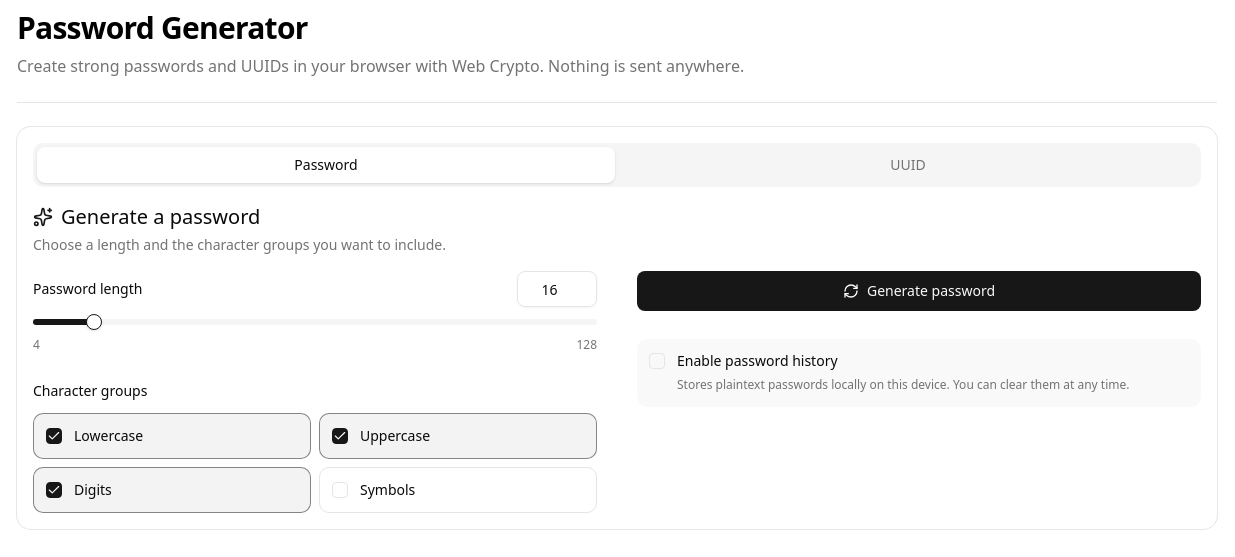
PasswordGeneratorScaffold › switches from password generation to UUID generation
Click the tab "UUID".
click(908, 165)  # box [619,147,1197,183]
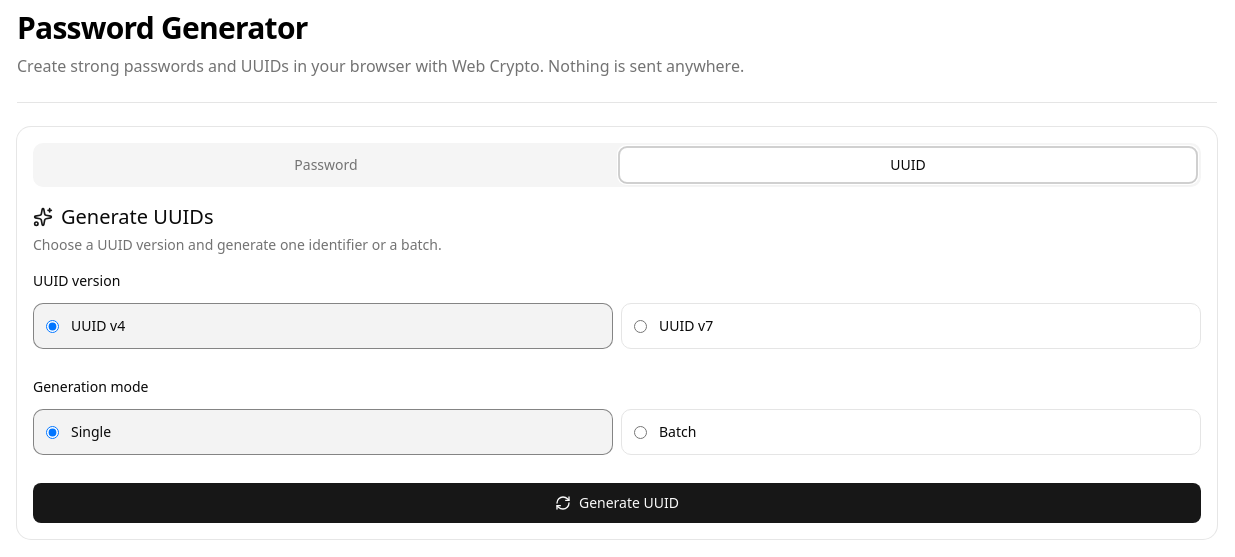
Now the heading "Generate UUIDs" is shown, box [61,203,214,231]
Now the radio button labelled "UUID v4" is checked, box [46,320,59,332]
Now the slider is gone
